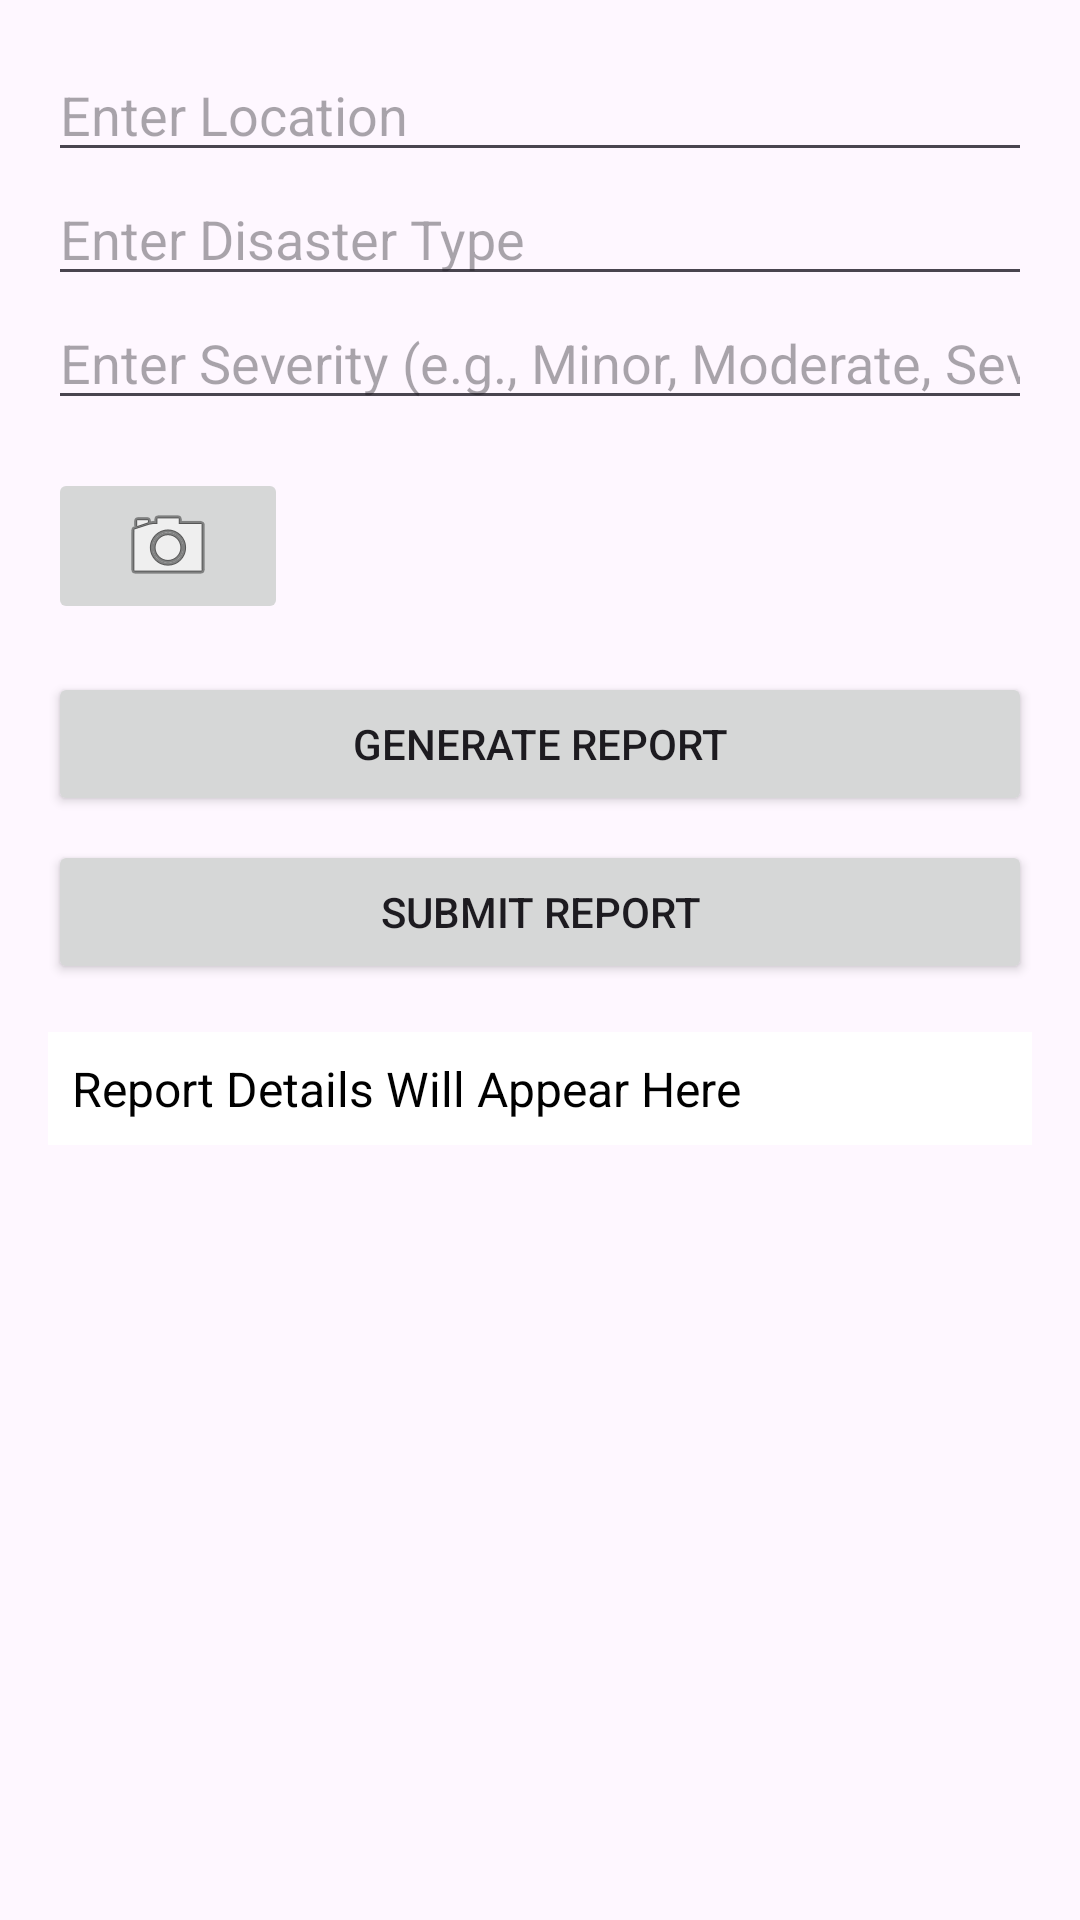

Locate icon controls on the screen. Image size 1080×1920, boxes as (x1, y1, x2, y2).
Attach Image: (60, 486, 276, 606)
